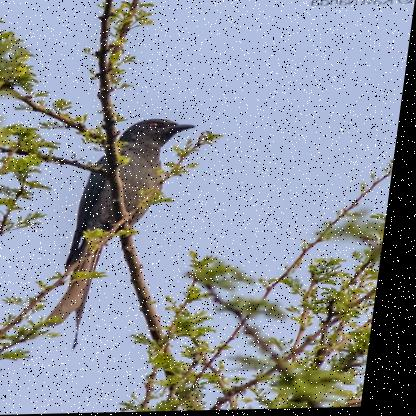Burung: (48, 119, 207, 340)
